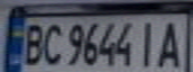4: (96, 18, 121, 68), (115, 18, 139, 68)
6: (81, 19, 100, 67)
9: (63, 19, 84, 66)
A: (154, 17, 187, 69)
B: (18, 19, 48, 67)
C: (39, 20, 66, 66)
I: (136, 17, 163, 69)
